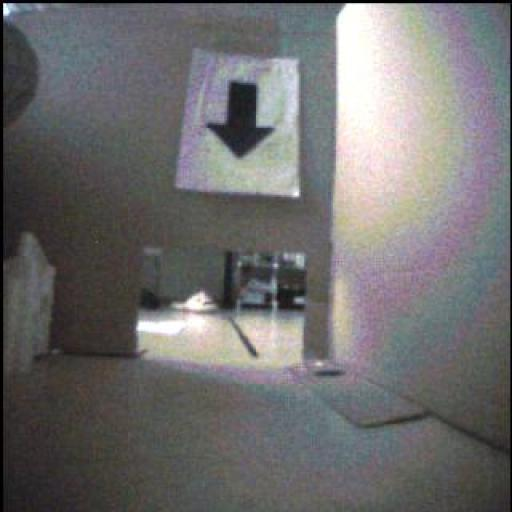arrow: (208, 83, 275, 158)
